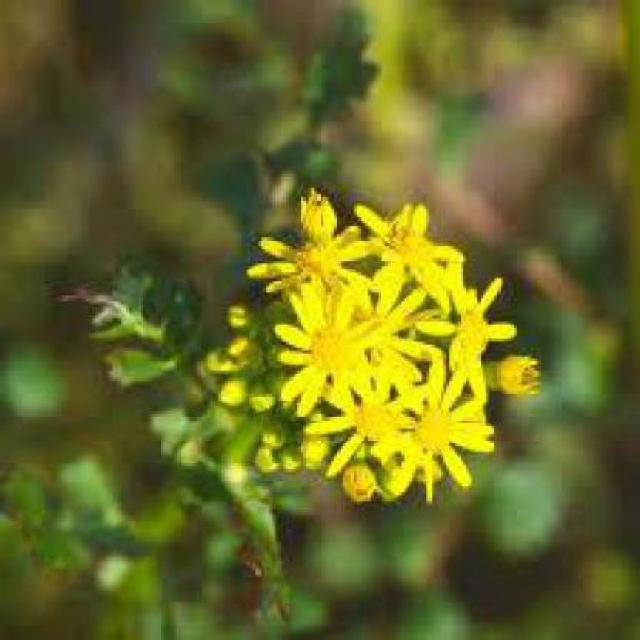flower: (250, 200, 556, 512)
